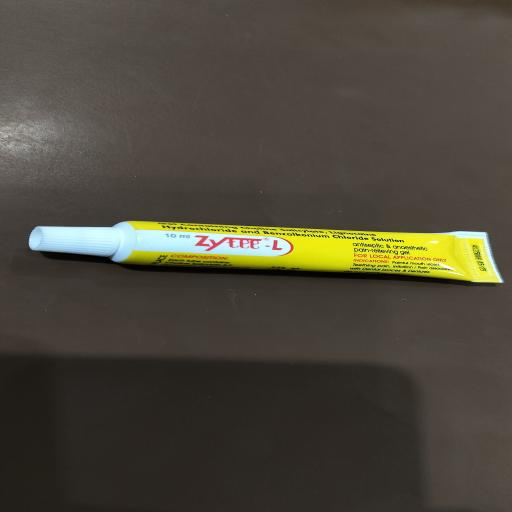Zytee-L: (199, 232, 285, 255)
medicine: (35, 223, 495, 264)
